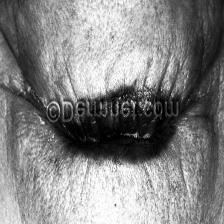Toxin: (0, 22, 40, 126)
